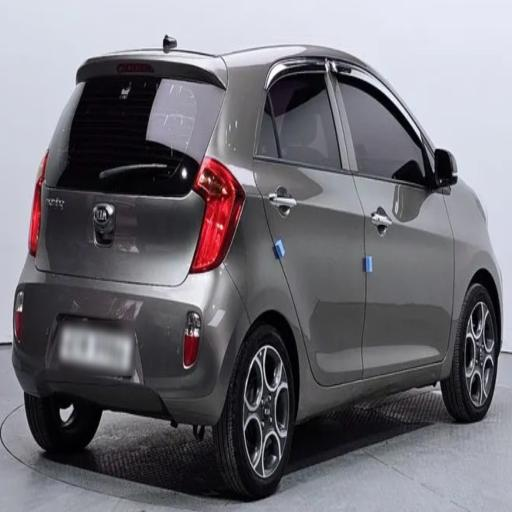scratch: (62, 166, 175, 376)
